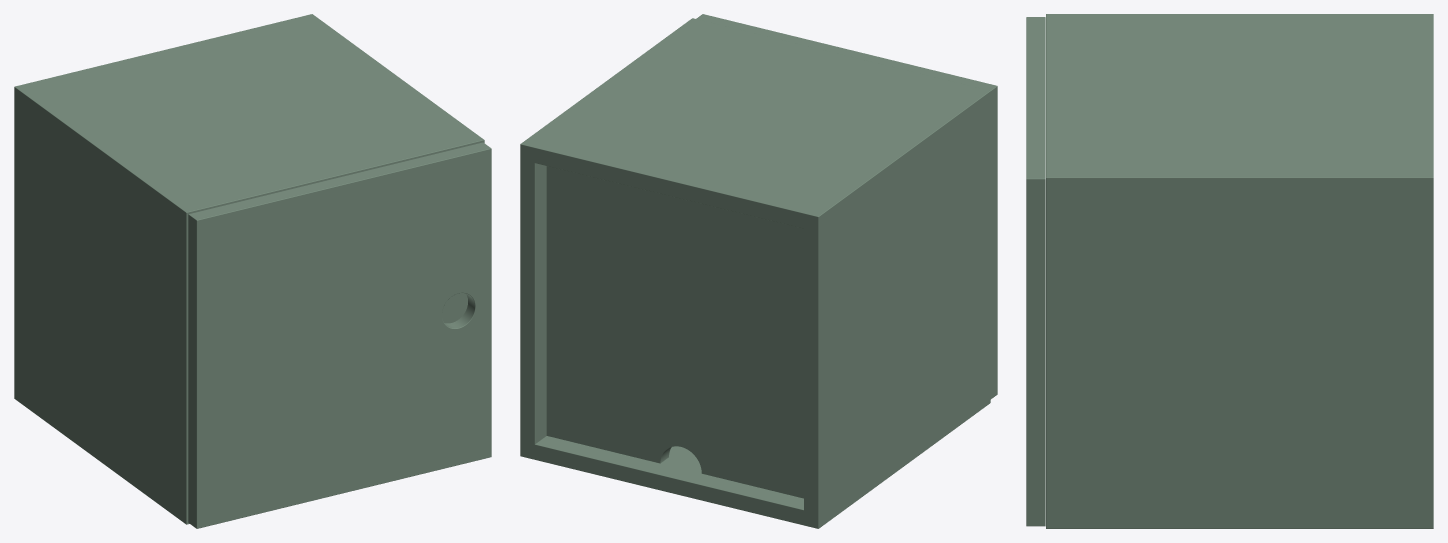
The model's file is MOD_1X1_D_B_DER_AP_VA.glb.
3 views of the same model, side by side, from view 1: azimuth 30°, elevation 25°; view 2: azimuth 150°, elevation 25°; view 3: azimuth 270°, elevation 25° (orthographic). The views are drawn at different scales.
Size of the model in its own units: 360 by 360 by 378.
